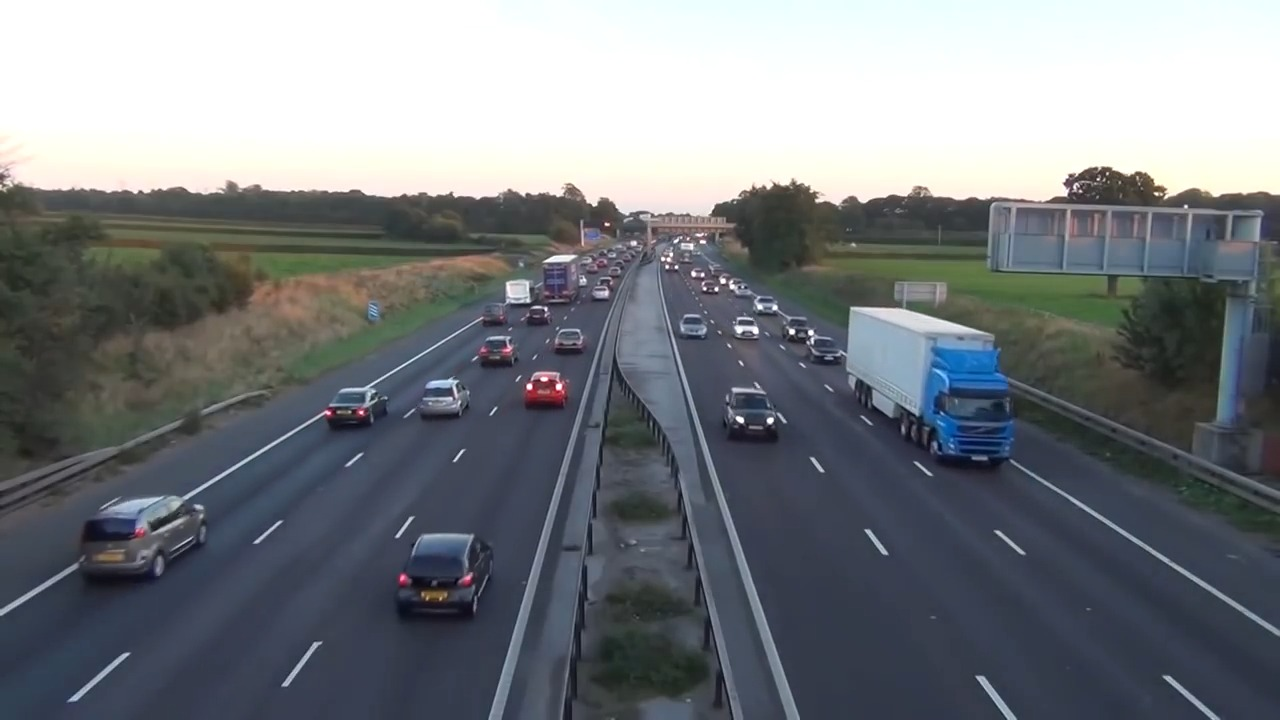truck: (844, 299, 1019, 467)
